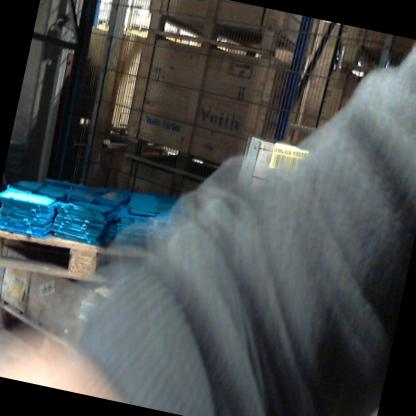pallet: (0, 221, 148, 299), (144, 3, 298, 66), (121, 133, 223, 186), (0, 302, 75, 361), (332, 32, 409, 82)
